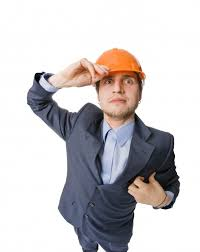Person_wearing_helmet: (81, 42, 148, 88)
